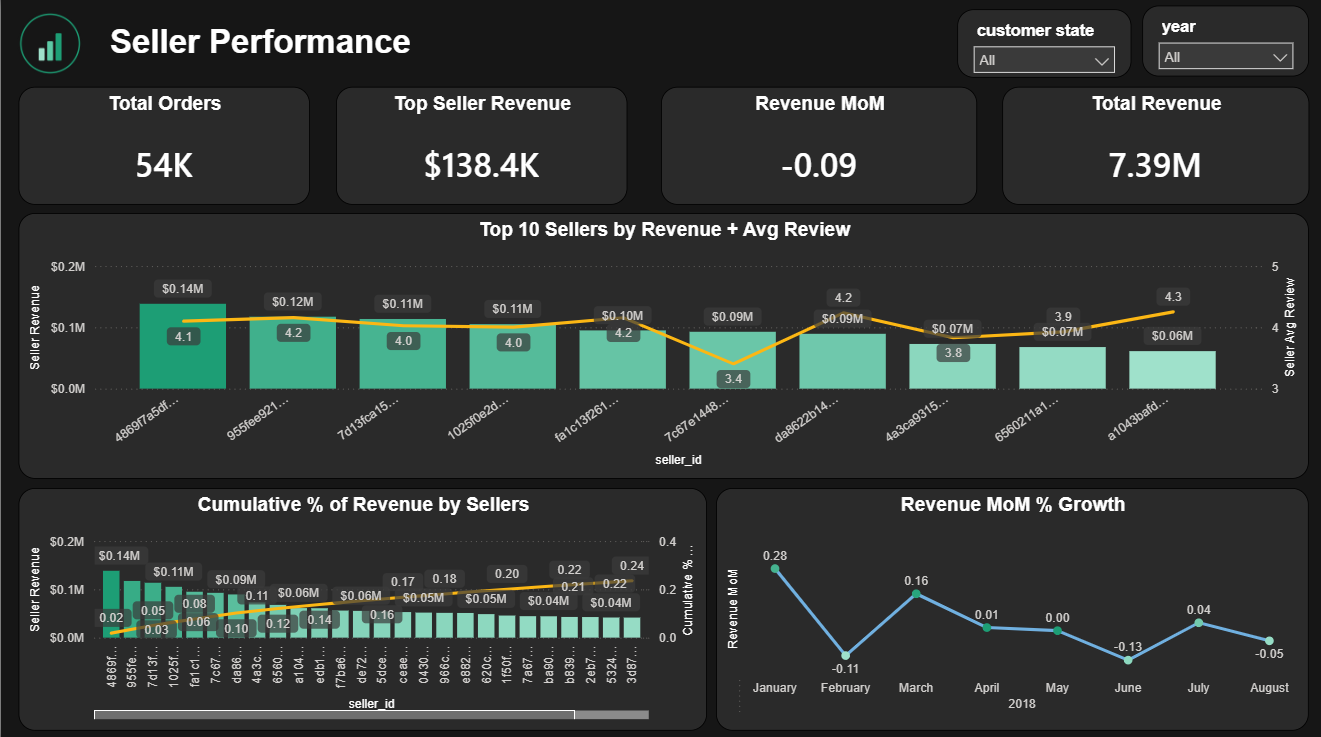

Layout of this report page (visuals, bound fields, positions):
{"tool":"powerbi","page":{"name":"Seller Performance","canvas":[1280,720],"ordinal":6},"visuals":[{"type":"cardVisual","title":"Total Orders","fields":{"Data":["_Measures.Total Orders"]},"box":[16.7,85.9,282.2,114.2],"z":0},{"type":"cardVisual","title":"Total Revenue","fields":{"Data":["_Measures.Total Revenue"]},"box":[969.8,85.9,297.6,114.2],"z":1000},{"type":"cardVisual","title":"Revenue MoM","fields":{"Data":["_Measures.Revenue MoM"]},"box":[640.1,85.9,306.6,114.2],"z":2000},{"type":"slicer","fields":{"Values":["dim_date.year"]},"box":[1105.8,7.8,161.9,69.2],"z":3000},{"type":"slicer","fields":{"Values":["dim_customer.customer_state"]},"box":[927,10.4,168.4,66.6],"z":4000},{"type":"lineChart","title":"Revenue MoM % Growth","fields":{"Category":["dim_date.year","dim_date.month_name"],"Y":["_Measures.Revenue MoM"]},"box":[693.3,475.2,574.5,235],"z":5000},{"type":"textbox","box":[100.5,19.4,397.5,95],"z":6000},{"type":"lineClusteredColumnComboChart","title":"Top 10 Sellers by Revenue + Avg Review","fields":{"Category":["dim_seller.seller_id"],"Y":["_Measures.Seller Revenue"],"Y2":["_Measures.Seller Avg Review"]},"box":[17,208.9,1250.8,257.2],"z":7000},{"type":"cardVisual","title":"Top Seller Revenue","fields":{"Data":["_Measures.Top Seller Revenue"]},"box":[325.1,86.2,282.2,114.2],"z":8000},{"type":"lineClusteredColumnComboChart","title":"Cumulative % of Revenue by Sellers","fields":{"Category":["dim_seller.seller_id"],"Y":["_Measures.Seller Revenue"],"Y2":["_Measures.Cumulative % of Revenue"]},"box":[17,475.2,667.2,235],"z":9000},{"type":"image","box":[0,10.9,95.7,66.6],"z":10000}]}

Visuals, with their boxes in screenshot pixels (x1, y1, x2, y2), scaled from the page's 1280x720 canvas onto the 1321x737 screenshot:
"Total Orders" cardVisual: (17,88,308,205)
"Total Revenue" cardVisual: (1001,88,1308,205)
"Revenue MoM" cardVisual: (661,88,977,205)
slicer - dim_date.year: (1141,8,1308,79)
slicer - dim_customer.customer_state: (957,11,1130,79)
"Revenue MoM % Growth" lineChart: (716,486,1308,727)
textbox: (104,20,514,117)
"Top 10 Sellers by Revenue + Avg Review" lineClusteredColumnComboChart: (18,214,1308,477)
"Top Seller Revenue" cardVisual: (336,88,627,205)
"Cumulative % of Revenue by Sellers" lineClusteredColumnComboChart: (18,486,706,727)
image: (0,11,99,79)
